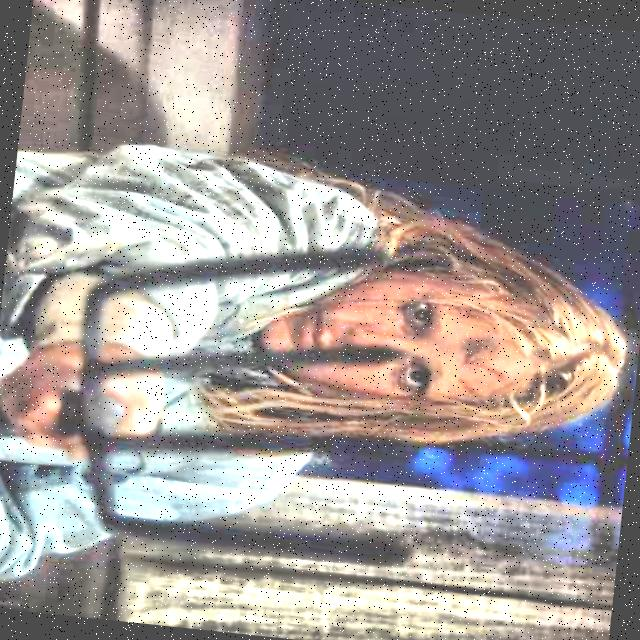fear: (219, 214, 640, 495)
